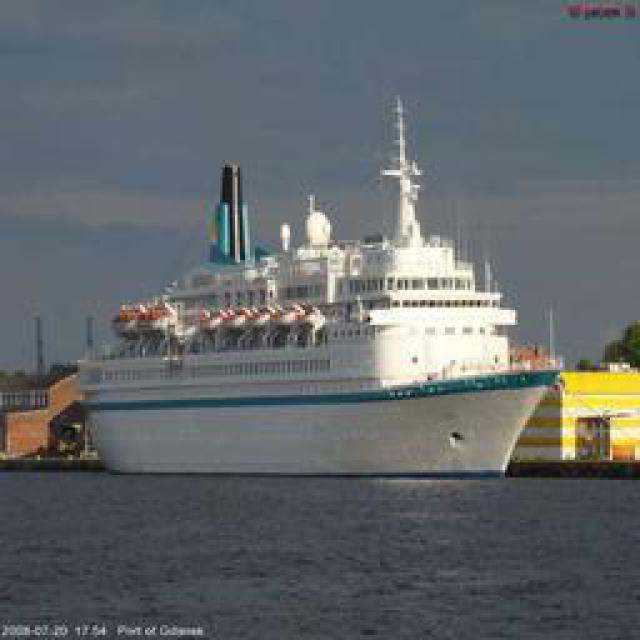Ship: (81, 87, 556, 470)
